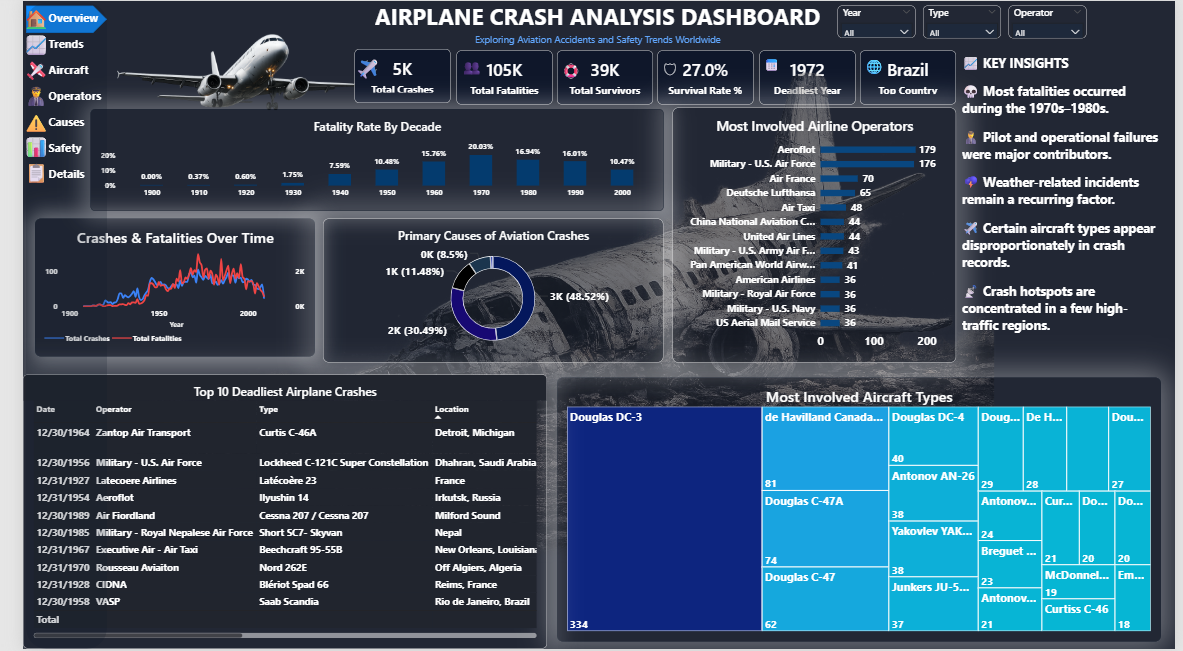

What the dashboard file says about the page in this screenshot:
{"tool":"powerbi","page":{"name":"Dashboard","canvas":[1920,1080],"ordinal":0},"visuals":[{"type":"image","box":[0,0,1796.7,960],"z":0},{"type":"shape","box":[5,2.5,135,1077.5],"z":0,"group":"g7"},{"type":"card","fields":{"Values":["Airplane_Crashes_and_Fatalities_Since_1908.Total Crashes"]},"box":[551.4,81,160,90],"z":0,"group":"g1"},{"type":"card","fields":{"Values":["Airplane_Crashes_and_Fatalities_Since_1908.Top Country"]},"box":[1395.7,82,160,90],"z":0,"group":"g6"},{"type":"card","fields":{"Values":["Airplane_Crashes_and_Fatalities_Since_1908.Survival Rate %"]},"box":[1058.6,82.2,160,90],"z":0,"group":"g4"},{"type":"card","fields":{"Values":["Airplane_Crashes_and_Fatalities_Since_1908.Total Fatalities"]},"box":[721.4,82.4,160,90],"z":0,"group":"g2"},{"type":"card","fields":{"Values":["Airplane_Crashes_and_Fatalities_Since_1908.Total Survivors"]},"box":[890,82.4,160,90],"z":0,"group":"g3"},{"type":"card","fields":{"Values":["Airplane_Crashes_and_Fatalities_Since_1908.Deadliest Year"]},"box":[1228.6,82.4,160,90],"z":0,"group":"g5"},{"type":"textbox","box":[268.4,0,1380.9,87.8],"z":1000},{"type":"textbox","box":[0,7.5,42.5,390],"z":1000,"group":"g7"},{"type":"textbox","box":[728.3,90.6,40.9,44.5],"z":1000,"group":"g2"},{"type":"textbox","box":[551.4,91.9,61.8,56.4],"z":1000,"group":"g1"},{"type":"textbox","box":[1404.3,92,40,44.3],"z":1000,"group":"g6"},{"type":"textbox","box":[1067.2,92.2,40,44.3],"z":1000,"group":"g4"},{"type":"textbox","box":[1237.2,92.4,40,44.3],"z":1000,"group":"g5"},{"type":"textbox","box":[894.3,96.7,40,44.3],"z":1000,"group":"g3"},{"type":"image","box":[0,0,713,287],"z":2000},{"type":"textbox","box":[42.5,15,90,390],"z":2000,"group":"g7"},{"type":"slicer","fields":{"Values":["Airplane_Crashes_and_Fatalities_Since_1908.Year"]},"box":[1357.1,8.6,130,54.3],"z":3000},{"type":"slicer","fields":{"Values":["Airplane_Crashes_and_Fatalities_Since_1908.Type"]},"box":[1499.1,8.2,130,54.5],"z":4000},{"type":"slicer","fields":{"Values":["Airplane_Crashes_and_Fatalities_Since_1908.Operator"]},"box":[1642.7,7.3,130,54.5],"z":5000},{"type":"group","id":"g1","title":"Group 1","box":[551.4,81,160,90],"z":6000},{"type":"group","id":"g2","title":"Group 2","box":[721.4,82.4,160,90],"z":7000},{"type":"group","id":"g3","title":"Group 2","box":[890,82.4,160,90],"z":8000},{"type":"group","id":"g4","title":"Group 2","box":[1058.6,82.2,160,90],"z":9000},{"type":"group","id":"g5","title":"Group 2","box":[1228.6,82.4,161.4,90],"z":10000},{"type":"group","id":"g6","title":"Group 2","box":[1395.7,82,161.4,90],"z":11000},{"type":"lineChart","title":"Crashes & Fatalities Over Time","fields":{"Category":["Airplane_Crashes_and_Fatalities_Since_1908.Year"],"Y":["Airplane_Crashes_and_Fatalities_Since_1908.Total Crashes"],"Y2":["Airplane_Crashes_and_Fatalities_Since_1908.Total Fatalities"]},"box":[20,363.3,466.7,230],"z":12000},{"type":"treemap","title":"Most Involved Aircraft Types","fields":{"Group":["Airplane_Crashes_and_Fatalities_Since_1908.Type"],"Values":["Airplane_Crashes_and_Fatalities_Since_1908.Total Crashes"]},"box":[890,626.7,1006.7,440],"z":13000},{"type":"textbox","box":[1565,87.5,330,515],"z":14000},{"type":"shape","box":[5,7,135,46],"z":15000},{"type":"clusteredBarChart","title":"Most Involved Airline Operators","fields":{"Category":["Airplane_Crashes_and_Fatalities_Since_1908.Operator"],"Y":["Airplane_Crashes_and_Fatalities_Since_1908.Total Crashes"]},"box":[1082.5,177.5,472.5,425],"z":16000},{"type":"donutChart","title":"Primary Causes of Aviation Crashes","fields":{"Category":["Airplane_Crashes_and_Fatalities_Since_1908.Cause1"],"Y":["Airplane_Crashes_and_Fatalities_Since_1908.Total Crashes"]},"box":[500,362.9,567.1,240],"z":17000},{"type":"clusteredColumnChart","title":"Fatality Rate By Decade","fields":{"Category":["Airplane_Crashes_and_Fatalities_Since_1908.Decade"],"Y":["Airplane_Crashes_and_Fatalities_Since_1908.Fatality Rate %"]},"box":[112.5,180,955,170],"z":18000},{"type":"tableEx","title":"Top 10 Deadliest Airplane Crashes","fields":{"Values":["Airplane_Crashes_and_Fatalities_Since_1908.Date","Airplane_Crashes_and_Fatalities_Since_1908.Operator","Airplane_Crashes_and_Fatalities_Since_1908.Type","Airplane_Crashes_and_Fatalities_Since_1908.Location","Sum(Airplane_Crashes_and_Fatalities_Since_1908.Fatalities)","Sum(Airplane_Crashes_and_Fatalities_Since_1908.Aboard)","Airplane_Crashes_and_Fatalities_Since_1908.Total Survivors","Airplane_Crashes_and_Fatalities_Since_1908.Summary"]},"box":[0,623.3,873.3,456.7],"z":19000},{"type":"group","id":"g7","title":"Group 3","box":[0,2.5,140,1077.5],"z":20000}]}

Visuals, with their boxes in screenshot pixels (x1, y1, x2, y2), scaled from the page's 1920x1080 canvas onto the 1183x651 screenshot:
image: [left=0, top=0, right=1107, bottom=579]
shape: [left=3, top=2, right=86, bottom=650]
card - Airplane_Crashes_and_Fatalities_Since_1908.Total Crashes: [left=340, top=49, right=438, bottom=103]
card - Airplane_Crashes_and_Fatalities_Since_1908.Top Country: [left=860, top=49, right=959, bottom=104]
card - Airplane_Crashes_and_Fatalities_Since_1908.Survival Rate %: [left=652, top=50, right=751, bottom=104]
card - Airplane_Crashes_and_Fatalities_Since_1908.Total Fatalities: [left=444, top=50, right=543, bottom=104]
card - Airplane_Crashes_and_Fatalities_Since_1908.Total Survivors: [left=548, top=50, right=647, bottom=104]
card - Airplane_Crashes_and_Fatalities_Since_1908.Deadliest Year: [left=757, top=50, right=856, bottom=104]
textbox: [left=165, top=0, right=1016, bottom=53]
textbox: [left=0, top=5, right=26, bottom=240]
textbox: [left=449, top=55, right=474, bottom=81]
textbox: [left=340, top=55, right=378, bottom=89]
textbox: [left=865, top=55, right=890, bottom=82]
textbox: [left=658, top=56, right=682, bottom=82]
textbox: [left=762, top=56, right=787, bottom=82]
textbox: [left=551, top=58, right=576, bottom=85]
image: [left=0, top=0, right=439, bottom=173]
textbox: [left=26, top=9, right=82, bottom=244]
slicer - Airplane_Crashes_and_Fatalities_Since_1908.Year: [left=836, top=5, right=916, bottom=38]
slicer - Airplane_Crashes_and_Fatalities_Since_1908.Type: [left=924, top=5, right=1004, bottom=38]
slicer - Airplane_Crashes_and_Fatalities_Since_1908.Operator: [left=1012, top=4, right=1092, bottom=37]
"Group 1" group: [left=340, top=49, right=438, bottom=103]
"Group 2" group: [left=444, top=50, right=543, bottom=104]
"Group 2" group: [left=548, top=50, right=647, bottom=104]
"Group 2" group: [left=652, top=50, right=751, bottom=104]
"Group 2" group: [left=757, top=50, right=856, bottom=104]
"Group 2" group: [left=860, top=49, right=959, bottom=104]
"Crashes & Fatalities Over Time" lineChart: [left=12, top=219, right=300, bottom=358]
"Most Involved Aircraft Types" treemap: [left=548, top=378, right=1169, bottom=643]
textbox: [left=964, top=53, right=1168, bottom=363]
shape: [left=3, top=4, right=86, bottom=32]
"Most Involved Airline Operators" clusteredBarChart: [left=667, top=107, right=958, bottom=363]
"Primary Causes of Aviation Crashes" donutChart: [left=308, top=219, right=657, bottom=363]
"Fatality Rate By Decade" clusteredColumnChart: [left=69, top=108, right=658, bottom=211]
"Top 10 Deadliest Airplane Crashes" tableEx: [left=0, top=376, right=538, bottom=650]
"Group 3" group: [left=0, top=2, right=86, bottom=650]
